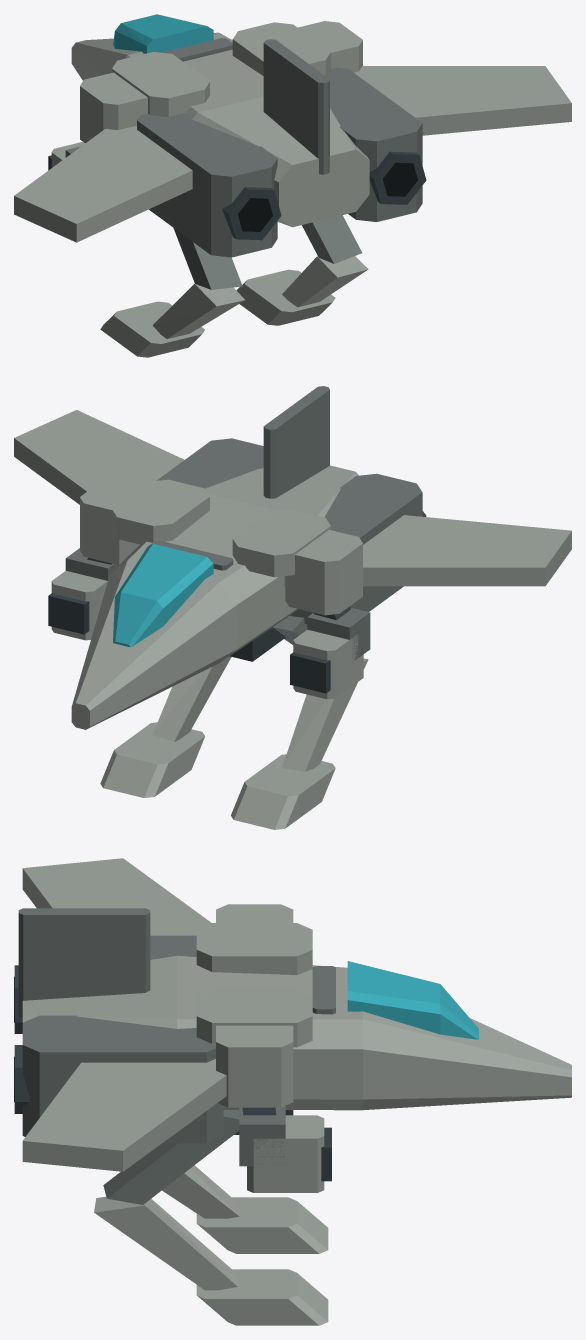
File: fallback-airmek-assault.glb
3 views of the same model, one above another, from view 1: azimuth 30°, elevation 25°; view 2: azimuth 150°, elevation 25°; view 3: azimuth 270°, elevation 25° (orthographic). The views are drawn at different scales.
Visible parts, largest first — view 1: LT, CT, RT, wing-1, wing1, LA, LL-foot, RL-foot, HD, LL-shin, RL-shin, LL (+2 smaller); view 2: LT, CT, wing-1, RT, wing1, HD, LA, LL-foot, RL-foot, RA, LL-shin, LA@forearm (+8 smaller); view 3: RT, CT, wing1, LT, wing-1, RA, HD, RL-foot, LL-foot, RL-shin, RA@forearm, RL (+3 smaller).
Part boxes in pixels (box(x1,y1,x2,y2)): LT: box(85, 49, 295, 257); CT: box(71, 38, 352, 226); RT: box(213, 22, 426, 221); wing-1: box(14, 125, 192, 242); wing1: box(354, 66, 571, 135); LA: box(80, 72, 147, 143); LL-foot: box(100, 301, 204, 357); RL-foot: box(236, 269, 335, 325); HD: box(113, 14, 213, 53); LL-shin: box(152, 283, 244, 338); RL-shin: box(282, 256, 368, 307); LL: box(173, 228, 242, 289); LT: box(143, 471, 426, 698); CT: box(71, 386, 352, 729); wing-1: box(283, 515, 571, 586); RT: box(86, 438, 263, 657); wing1: box(14, 410, 184, 504); HD: box(113, 543, 213, 647); LA: box(285, 529, 362, 620); LL-foot: box(231, 754, 335, 829); RL-foot: box(100, 722, 204, 797); RA: box(80, 478, 144, 564); LL-shin: box(282, 658, 368, 771); LA@forearm: box(293, 629, 363, 699); RT: box(14, 989, 496, 1143); CT: box(18, 908, 571, 1104); wing1: box(22, 1059, 226, 1171); LT: box(14, 923, 347, 1033); wing-1: box(22, 858, 211, 935); RA: box(216, 1025, 293, 1115); HD: box(347, 961, 478, 1039); RL-foot: box(196, 1269, 328, 1325); LL-foot: box(196, 1197, 328, 1253); RL-shin: box(94, 1196, 239, 1290); RA@forearm: box(247, 1115, 324, 1192); RL: box(103, 1110, 239, 1204).
Size of the model in its own units: 107 by 62.16 by 86.52.
